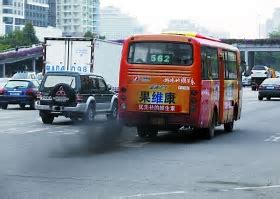smoke: (45, 119, 136, 157)
